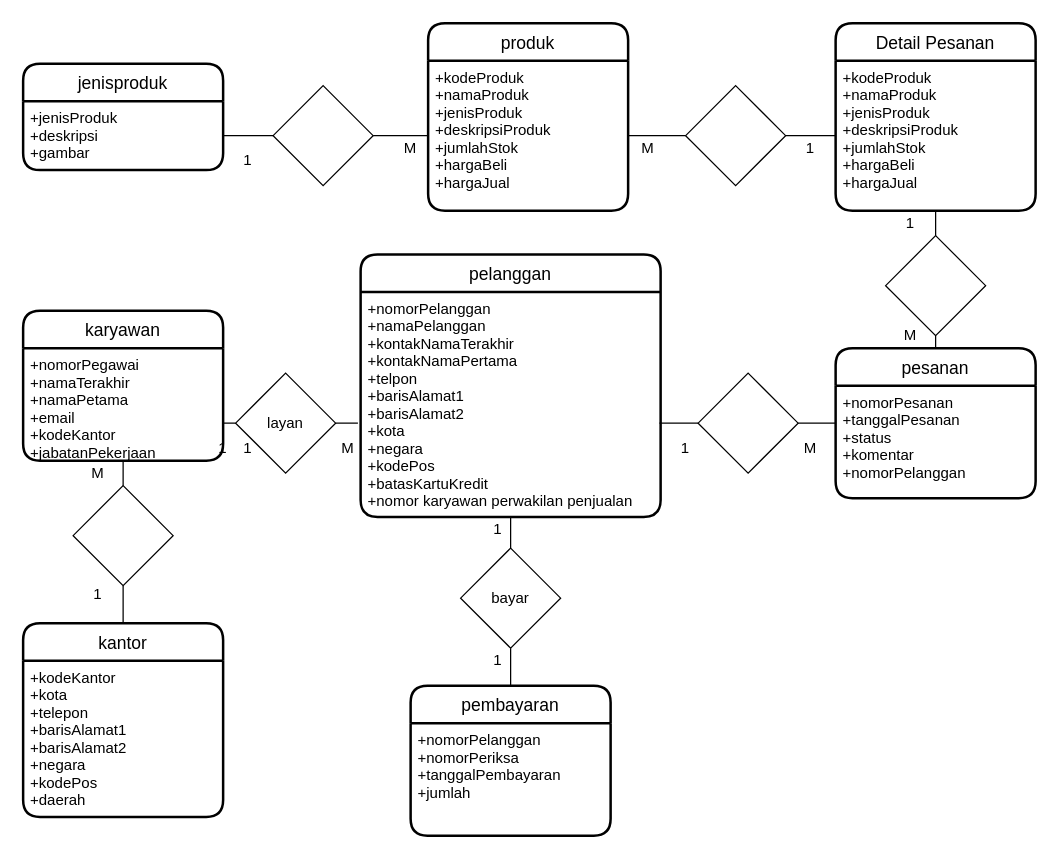
This 1058x858 diagram has some shape labels left out. Here are the shapes that lost their labels. From the top down, the centre of each, then its label:
At point (322, 135): "detail".
At point (735, 135): "cari".
At point (935, 285): "catat".
At point (747, 422): "pesan".
At point (122, 535): "tempat".
